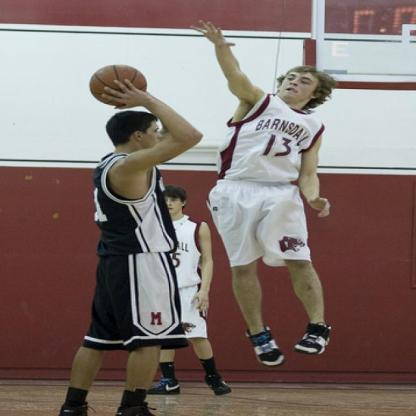basketball: (90, 64, 147, 108)
